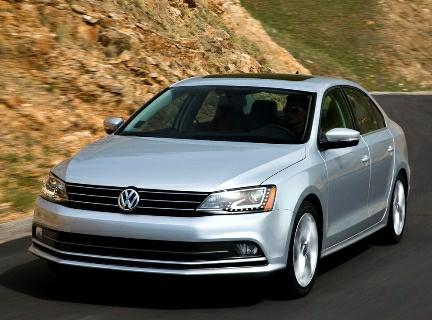car: (16, 66, 418, 302)
